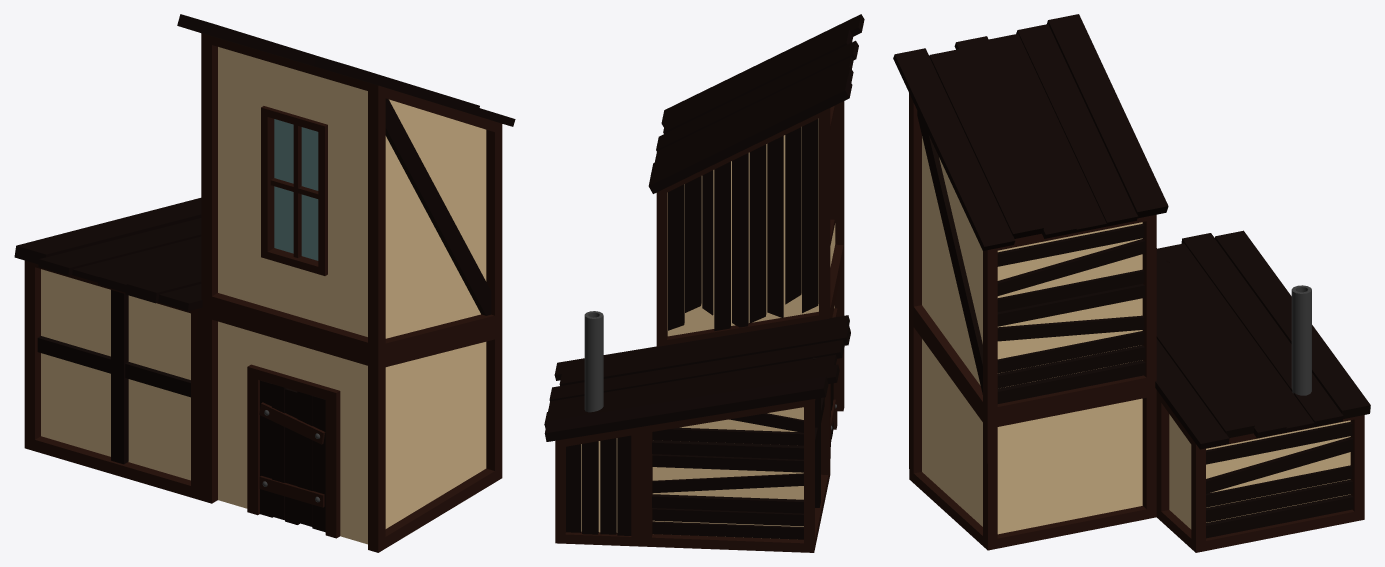
Rendered from generic house 2.FBX.
The picture shows the model from 3 angles, left to right: view 1: azimuth 30°, elevation 25°; view 2: azimuth 150°, elevation 25°; view 3: azimuth 270°, elevation 25°; orthographic projection. The views are drawn at different scales.
Visible parts, largest first — view 1: Box094; view 2: Box094; view 3: Box094.
Boxes of the visible parts, x1,y1,x2,y2 form: Box094: (14,14,515,552); Box094: (544,14,864,552); Box094: (893,14,1370,552).
Size of the model in its own units: 151 by 198 by 202.
